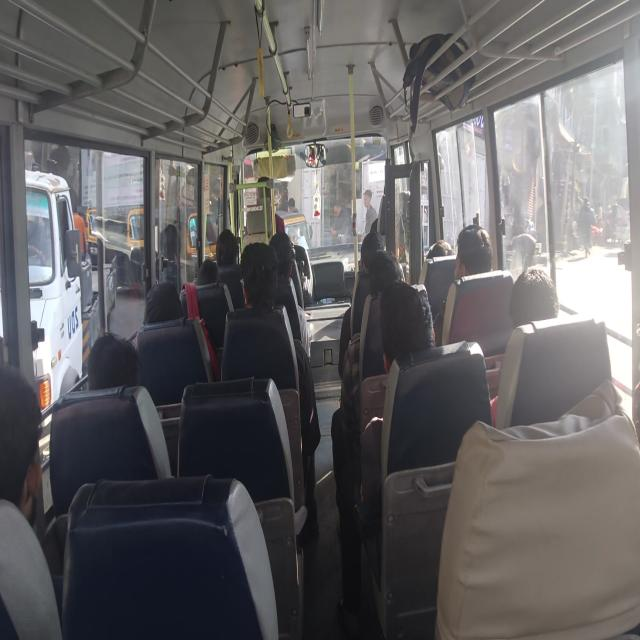person: (1, 348, 45, 531), (383, 289, 446, 381), (84, 312, 148, 400), (512, 262, 560, 337), (238, 240, 280, 322), (144, 274, 184, 336), (450, 226, 500, 274), (364, 251, 408, 299), (376, 184, 415, 230), (190, 247, 226, 291), (358, 224, 389, 267), (425, 234, 455, 277), (213, 218, 242, 262), (270, 230, 296, 278), (252, 177, 280, 214)
